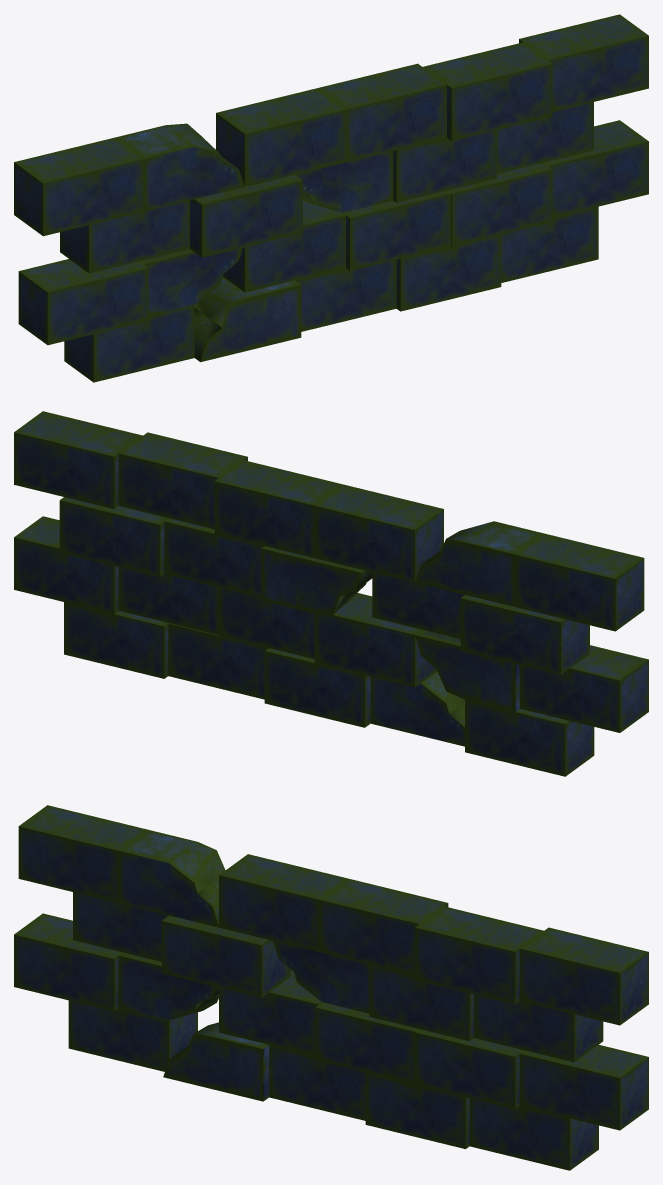
Rendered from ModularWallHalf.fbx.
3 views of the same model, one above another, from view 1: azimuth 30°, elevation 25°; view 2: azimuth 150°, elevation 25°; view 3: azimuth 330°, elevation 25° (orthographic).
Visible parts, largest first — view 1: SM_ModularWallHalf; view 2: SM_ModularWallHalf; view 3: SM_ModularWallHalf.
Boxes of the visible parts, <box> form: SM_ModularWallHalf: <box>14,14,648,382</box>; SM_ModularWallHalf: <box>14,411,648,776</box>; SM_ModularWallHalf: <box>14,805,648,1170</box>.
Bounding box in the file's own units: 300 × 100 × 35.24.
Materials: 2 (2 with a texture image).
